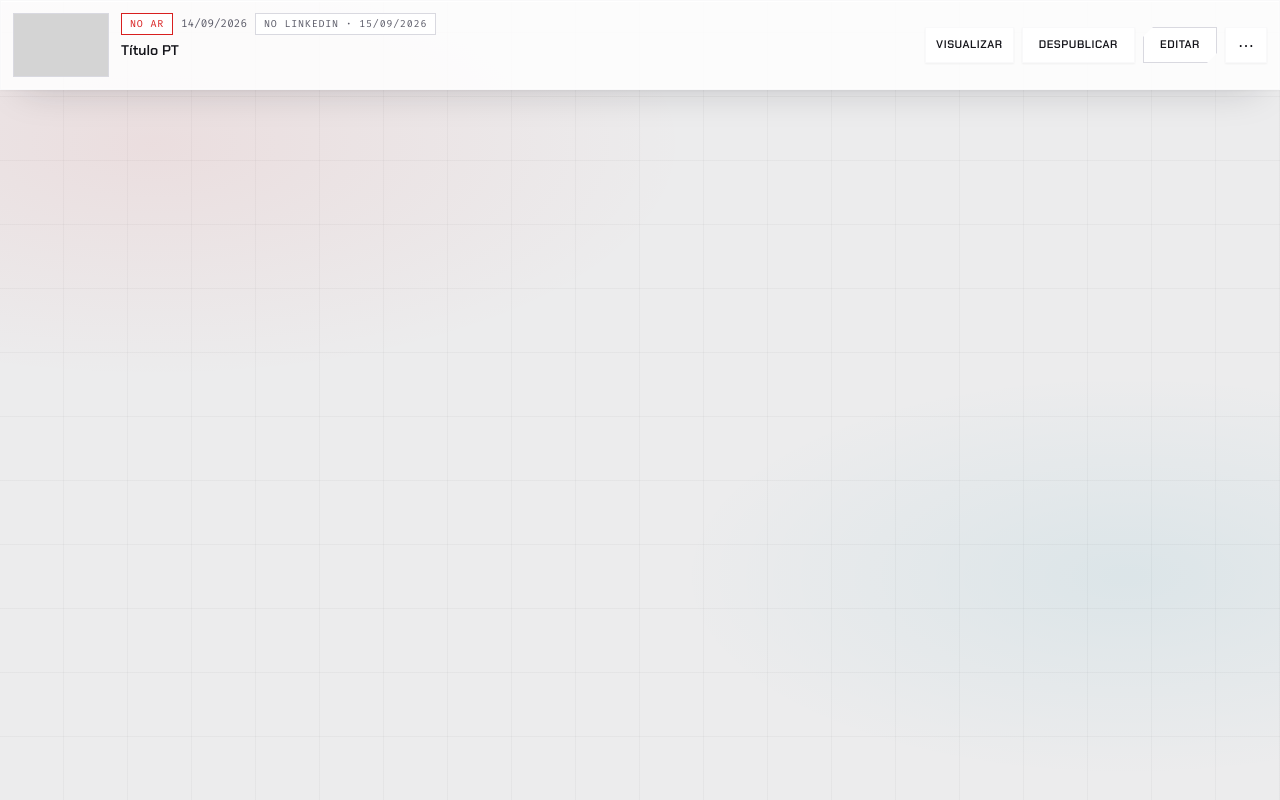
Test: "publicar no LinkedIn" no menu › post que já foi ao LinkedIn diz "de novo": o autor pode repetir, sabendo
The image size is (1280, 800).
Click the button named "mais ações": [1246, 45] box [1225,27,1267,63]
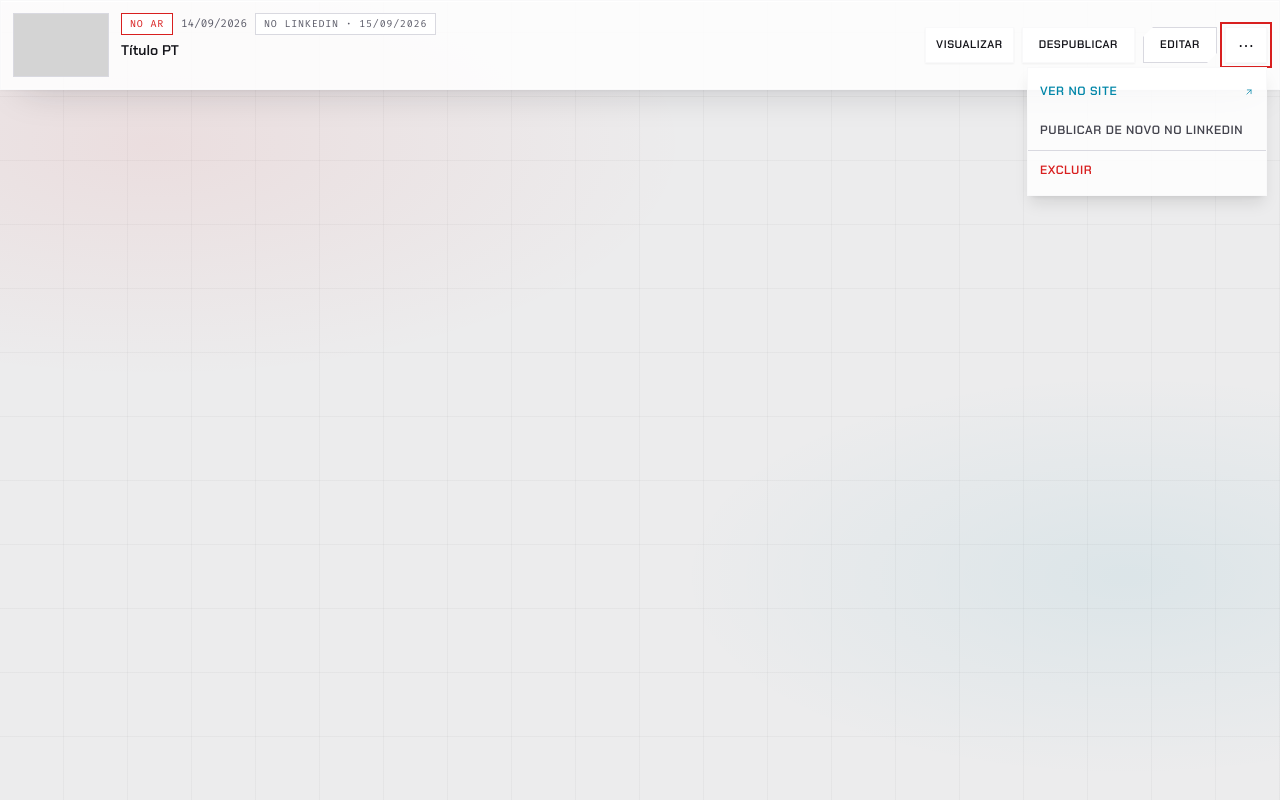
Now the menu item "publicar de novo no LinkedIn" is shown, box [1028,111,1266,150]
